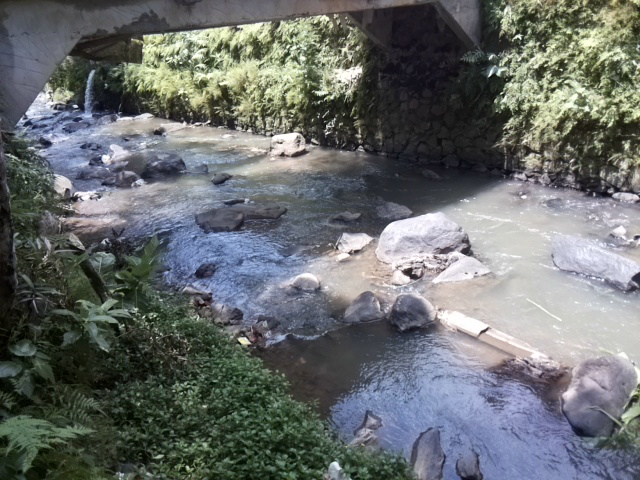Sampah_Styrofoam: (235, 335, 251, 346)
